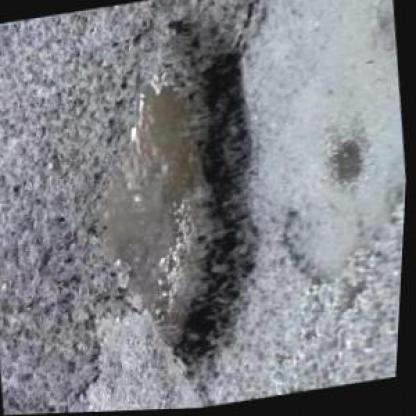pothole: (61, 6, 295, 400), (323, 133, 380, 193)
